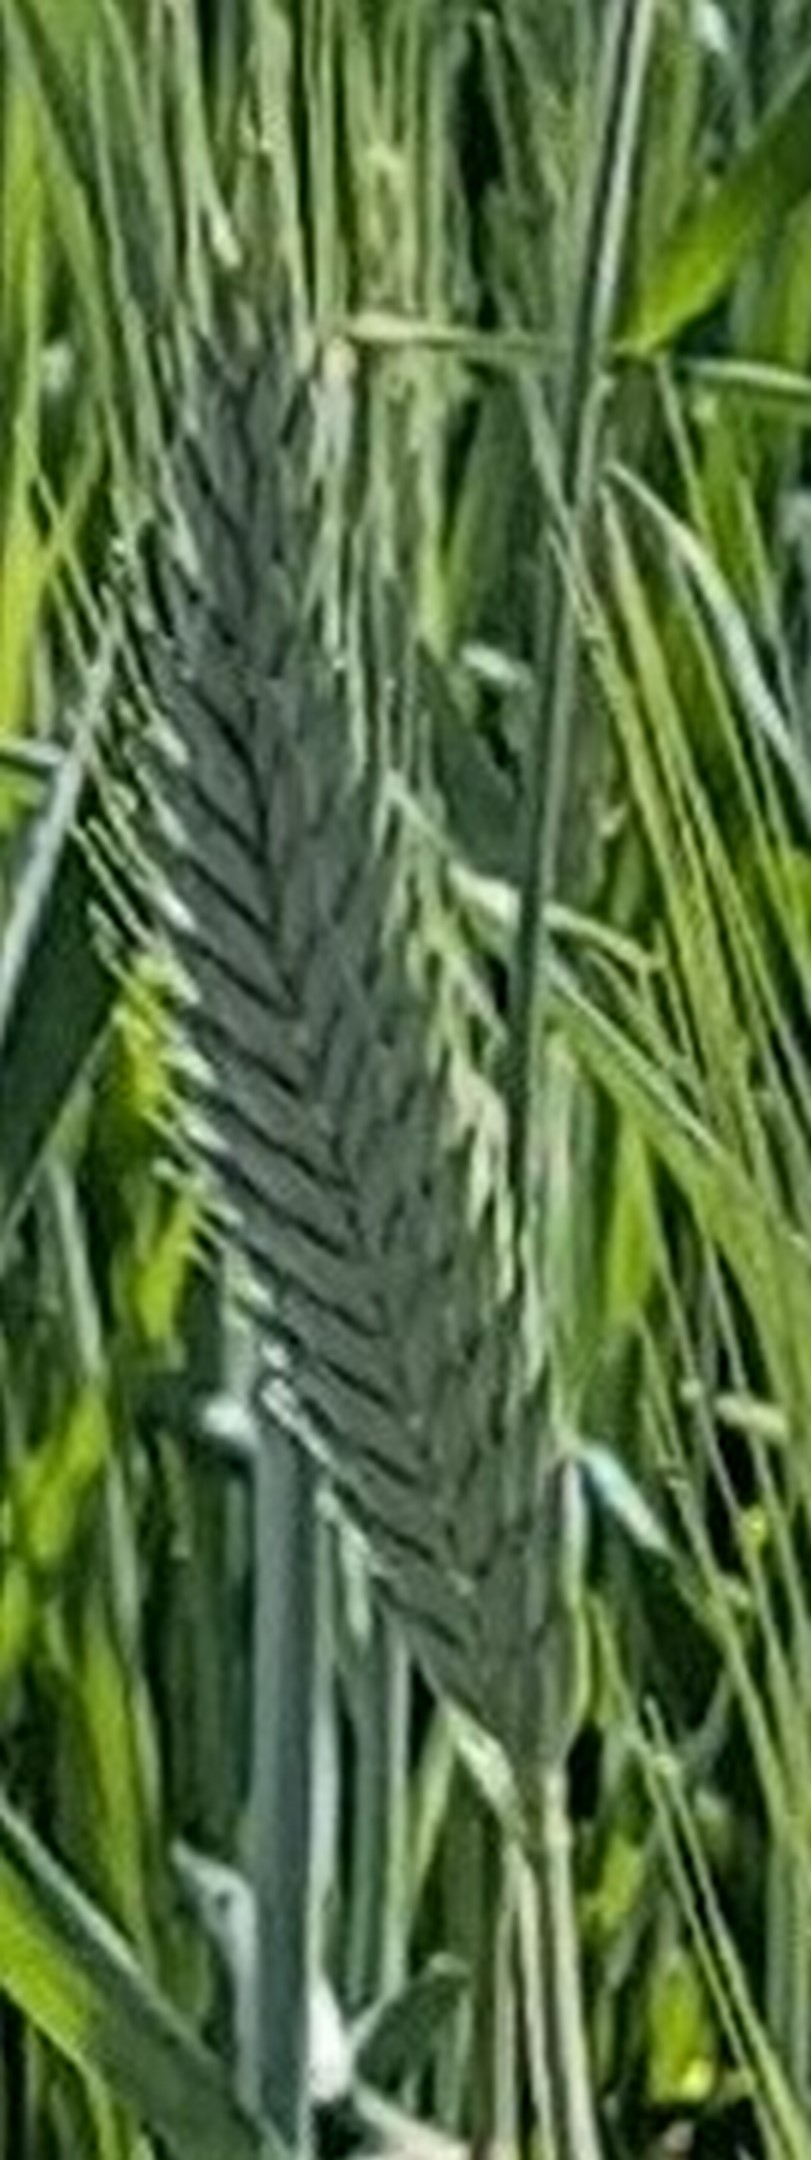Healthy Wheat: (89, 245, 609, 1745)
